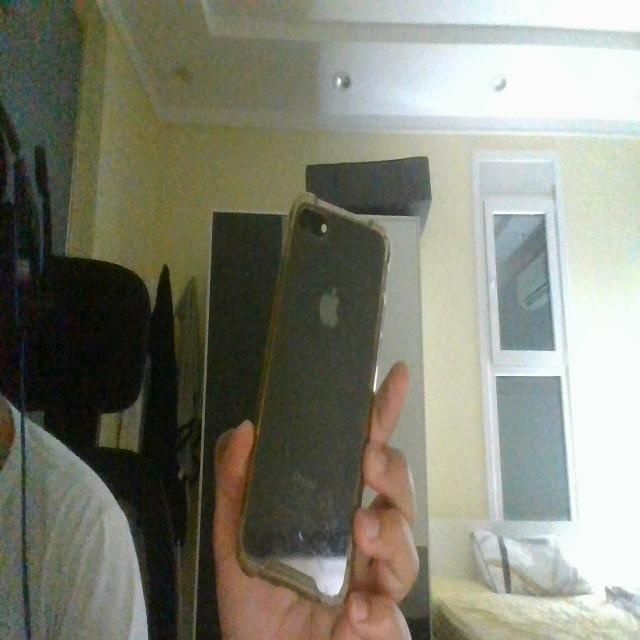Phone: (234, 193, 392, 605)
